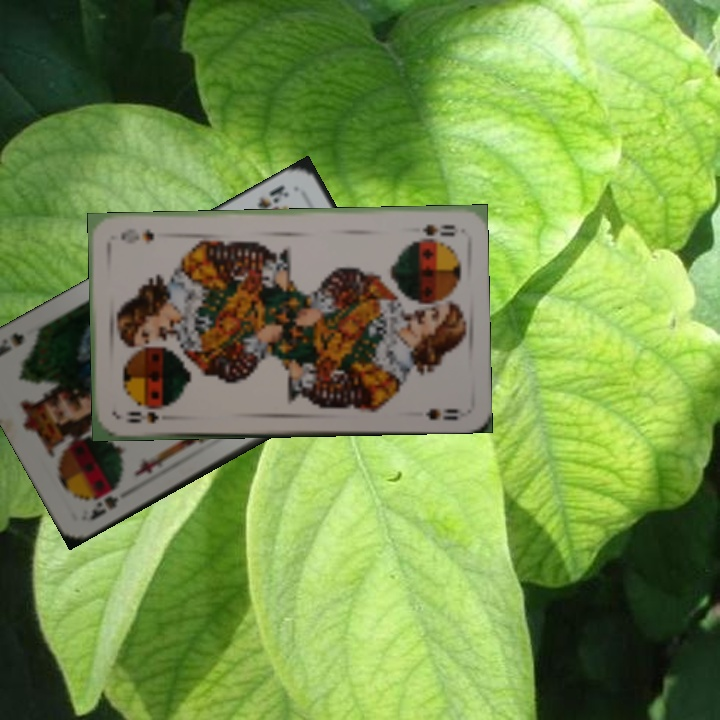SK: (85, 482, 123, 523), (253, 181, 292, 212)
SO: (121, 404, 167, 426), (418, 220, 458, 239)
